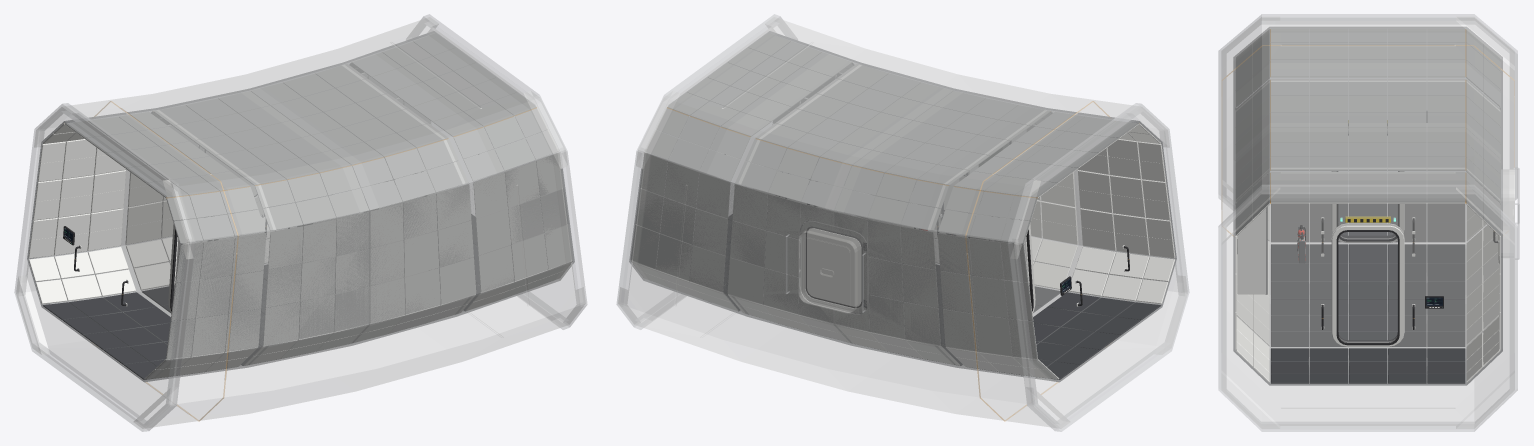
The model's file is ax_grav_09_ring_bulkhead_airlock_combined.glb.
3 renders of one model, left to right at view 1: azimuth 30°, elevation 25°; view 2: azimuth 150°, elevation 25°; view 3: azimuth 270°, elevation 25°, orthographic. The views are drawn at different scales.
Parts seen in each view (by area): view 1: ext_hull, pressure_vessel, ext_end_flanges, ext_bulkhead_2, panel_b9_f04, panel_b23_f09, panel_b23_f04, panel_b23_f08, panel_b23_f06, panel_b22_f08, panel_b23_f07, panel_b22_f06 (+121 smaller); view 2: ext_hull, pressure_vessel, ext_end_flanges, ext_bulkhead_2, ext_hatch_door_1, hatch_door_1, hatch_coaming_1, panel_b23_f04, panel_b9_f08, panel_b9_f09, panel_b9_f05, panel_b9_f04 (+120 smaller); view 3: ext_hull, pressure_vessel, ext_bulkhead_1, ext_end_flanges, ext_door_1, ext_bulkhead_2, rack_2_carcass, bulkhead_coaming_door_1_corridor_a, ext_door_2, bulkhead_door_trim_door_1_corridor_a, floor_tile_28, floor_tile_52 (+129 smaller).
Boxes of the visible parts, x1,y1,x2,y2 form: ext_hull: (16, 17, 585, 428); pressure_vessel: (27, 31, 574, 382); ext_end_flanges: (14, 14, 587, 431); ext_bulkhead_2: (121, 169, 179, 316); panel_b9_f04: (125, 201, 162, 244); panel_b23_f09: (439, 258, 476, 303); panel_b23_f04: (263, 302, 299, 345); panel_b23_f08: (405, 268, 440, 313); panel_b23_f06: (334, 287, 369, 330); panel_b22_f08: (404, 231, 438, 276); panel_b23_f07: (370, 278, 405, 322); panel_b22_f06: (335, 249, 369, 293); ext_hull: (618, 17, 1187, 428); pressure_vessel: (629, 31, 1176, 382); ext_end_flanges: (616, 14, 1189, 431); ext_bulkhead_2: (1024, 169, 1082, 316); ext_hatch_door_1: (799, 231, 857, 312); hatch_door_1: (807, 228, 861, 306); hatch_coaming_1: (800, 221, 868, 313); panel_b23_f04: (1041, 201, 1078, 244); panel_b9_f08: (763, 268, 798, 313); panel_b9_f09: (727, 258, 764, 303); panel_b9_f05: (869, 295, 904, 338); panel_b9_f04: (904, 302, 940, 344); ext_hull: (1221, 17, 1514, 428); pressure_vessel: (1233, 27, 1502, 385); ext_bulkhead_1: (1237, 202, 1499, 348); ext_end_flanges: (1218, 14, 1517, 431); ext_door_1: (1339, 232, 1397, 341); ext_bulkhead_2: (1268, 203, 1486, 243); rack_2_carcass: (1237, 208, 1266, 294); bulkhead_coaming_door_1_corridor_a: (1331, 225, 1404, 346); ext_door_2: (1339, 203, 1397, 238); bulkhead_door_trim_door_1_corridor_a: (1336, 230, 1399, 345); floor_tile_28: (1349, 244, 1387, 263); floor_tile_52: (1427, 244, 1465, 263).
Bounding box in the file's own units: 7.52 × 4.23 × 4.77.
29 materials, 1 textured.
